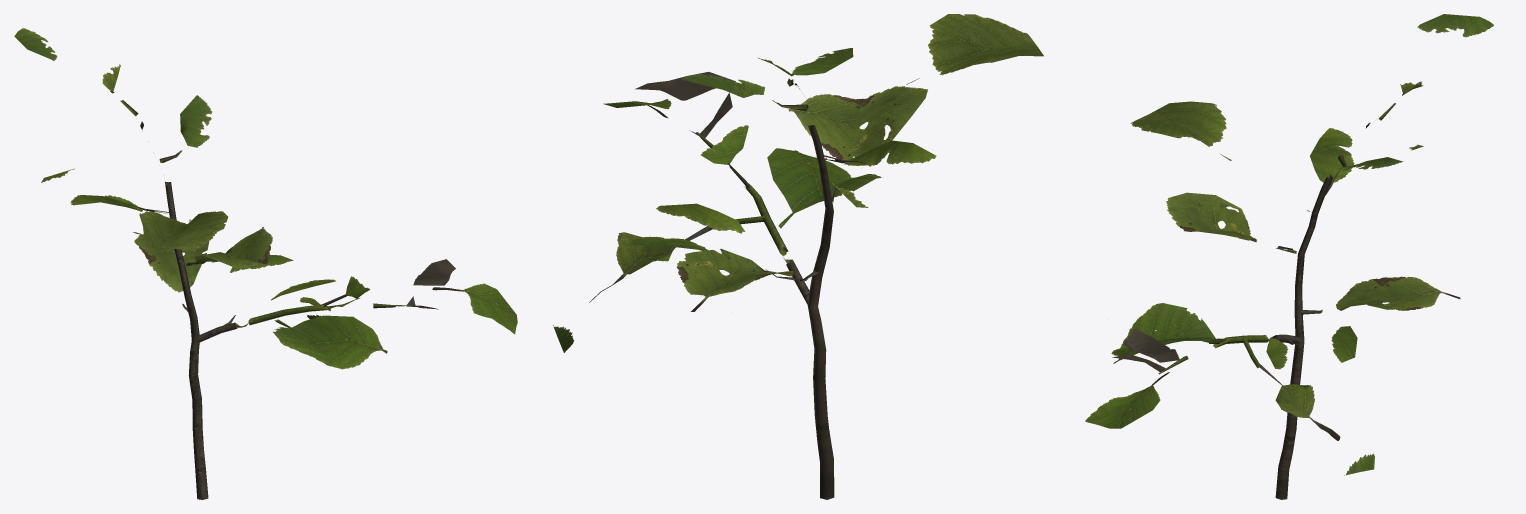
The model's file is SM_BlackAlder_Seedling_01_PP_LOD1.gltf.
3 views of the same model, side by side, from view 1: azimuth 30°, elevation 25°; view 2: azimuth 150°, elevation 25°; view 3: azimuth 270°, elevation 25° (orthographic). The views are drawn at different scales.
Visible parts, largest first — view 1: SM_BlackAlder_Seedling_01_PP; view 2: SM_BlackAlder_Seedling_01_PP; view 3: SM_BlackAlder_Seedling_01_PP.
Part boxes in pixels (x1,y1,x2,y2): SM_BlackAlder_Seedling_01_PP: [14, 28, 517, 499]; SM_BlackAlder_Seedling_01_PP: [553, 14, 1043, 499]; SM_BlackAlder_Seedling_01_PP: [1085, 14, 1493, 499].
Bounding box in the file's own units: 0.3788 × 0.4162 × 0.3806.
Materials: 1 (1 with a texture image).
